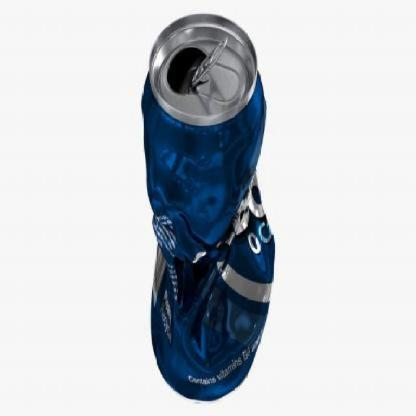Can: (137, 6, 281, 406)
